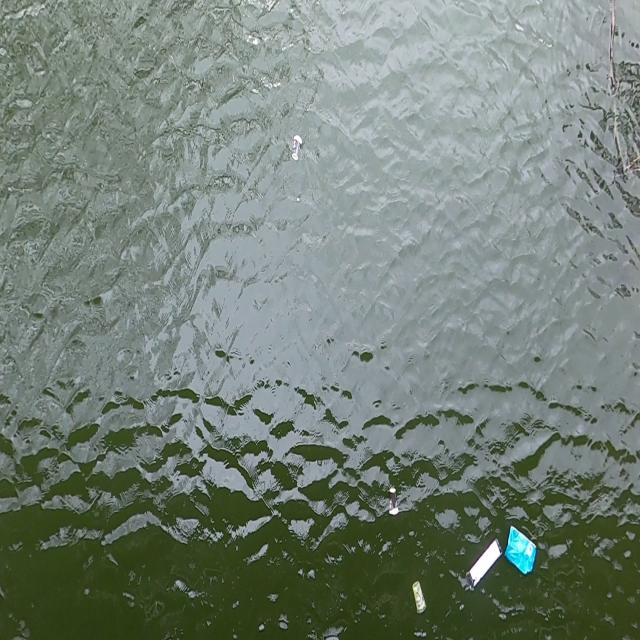Autre plastique: (503, 520, 539, 584)
Non plastique: (408, 578, 429, 620), (286, 127, 305, 168)
